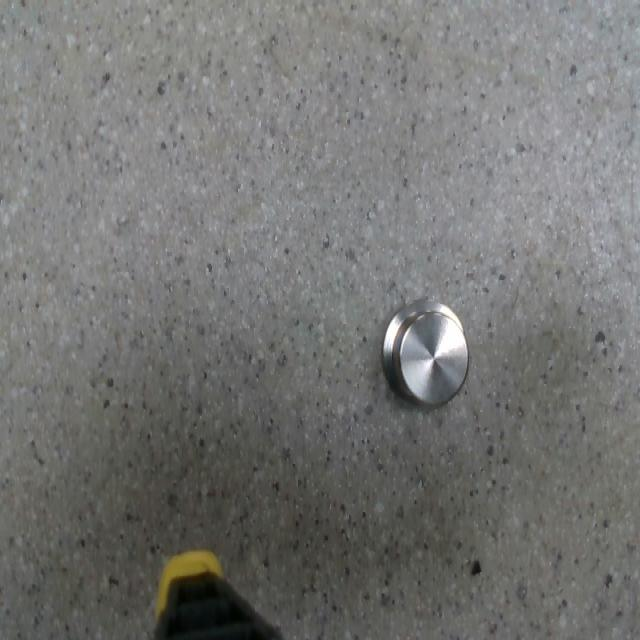sensor: (382, 298, 469, 406)
